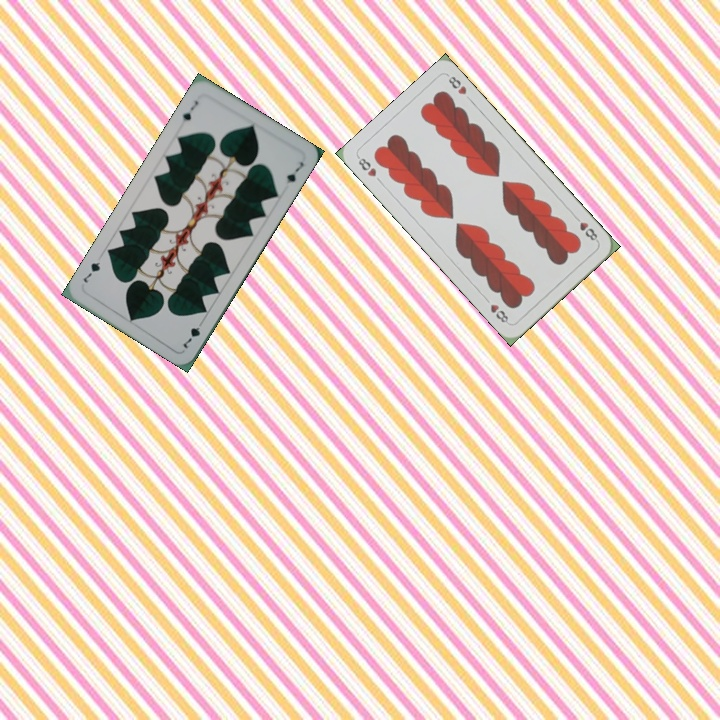G7: (179, 315, 207, 351), (176, 97, 201, 127)
H8: (570, 211, 601, 245), (354, 153, 379, 179)
